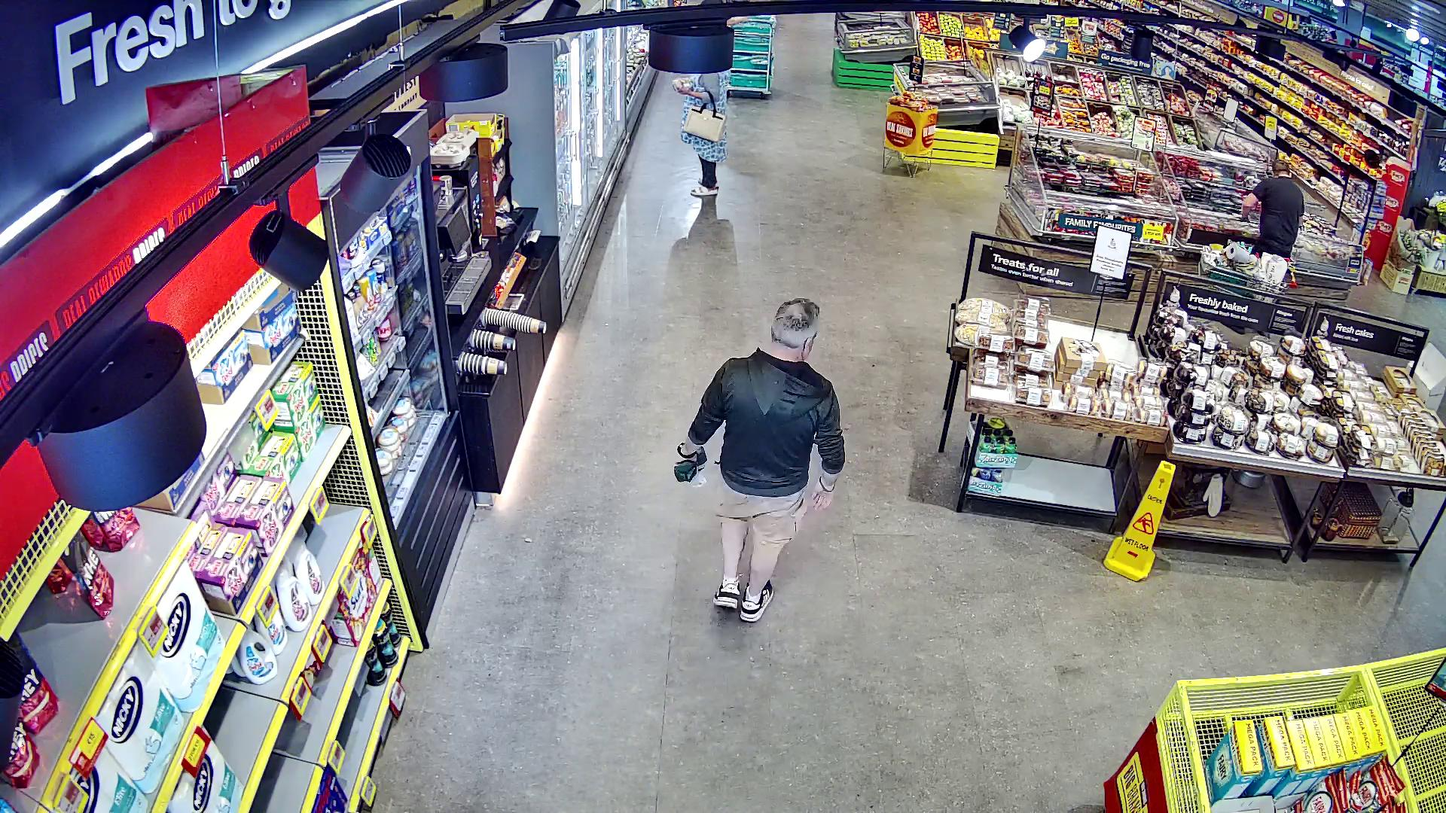backpack-or-handbag: (684, 101, 726, 142)
carrying-item: (672, 76, 695, 94)
empty-shopping-bags: (674, 446, 708, 484)
person: (676, 295, 846, 622)
person-with-carrying-item: (681, 70, 727, 196)
person-with-empty-shopping-bag-s-: (674, 292, 847, 621)
